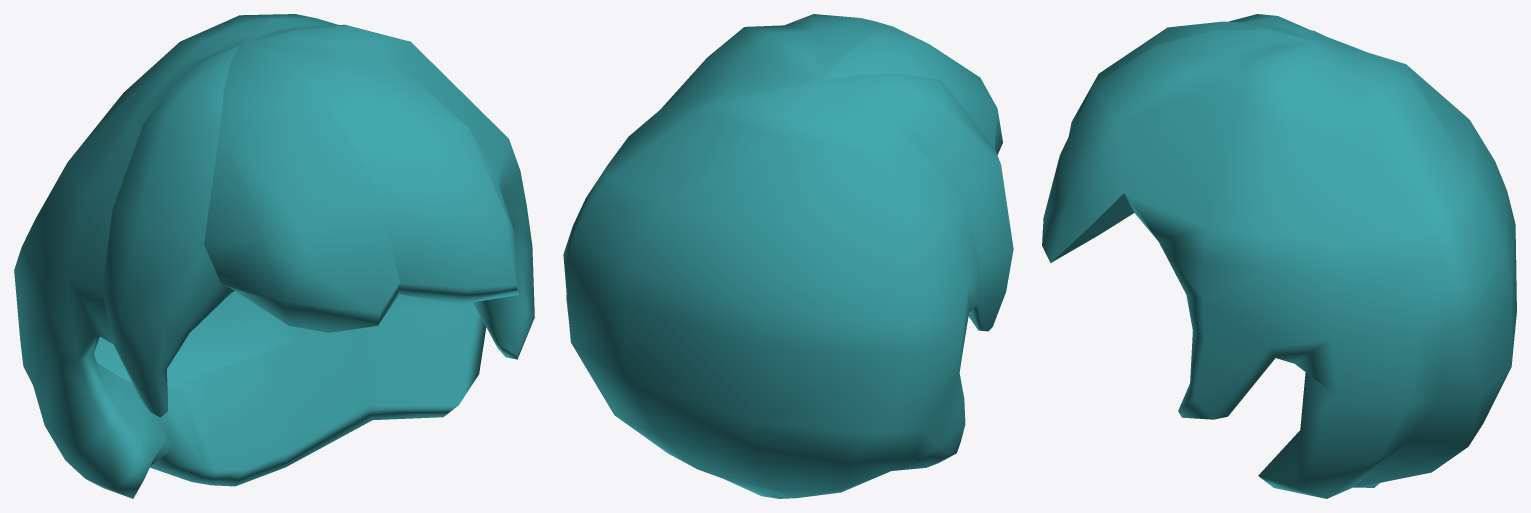
The model's file is PlayerHair_lowpoly (1).fbx.
3 views of the same model, side by side, from view 1: azimuth 30°, elevation 25°; view 2: azimuth 150°, elevation 25°; view 3: azimuth 270°, elevation 25° (orthographic). The views are drawn at different scales.
Visible parts, largest first — view 1: PlayerHair_lowpoly; view 2: PlayerHair_lowpoly; view 3: PlayerHair_lowpoly.
Boxes of the visible parts, bbox=[...] form: PlayerHair_lowpoly: bbox=[14, 14, 534, 498]; PlayerHair_lowpoly: bbox=[563, 14, 1013, 498]; PlayerHair_lowpoly: bbox=[1042, 14, 1516, 498].
Size of the model in its own units: 9.87 by 10.26 by 10.03.
